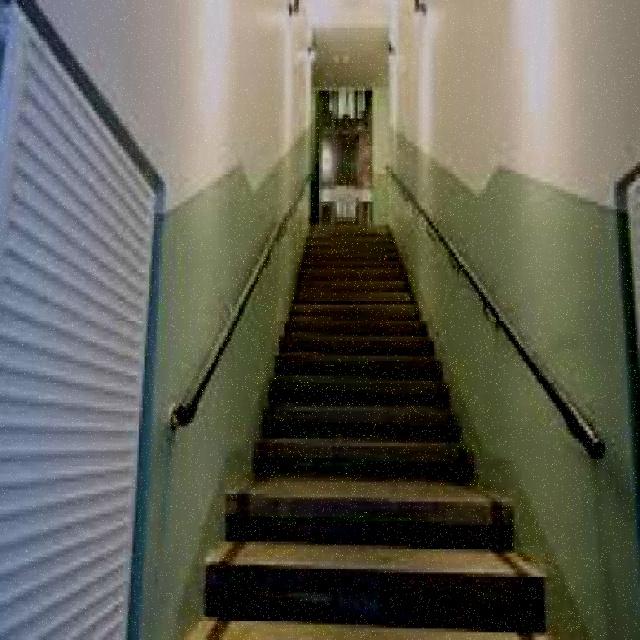stair: (193, 116, 553, 627)
